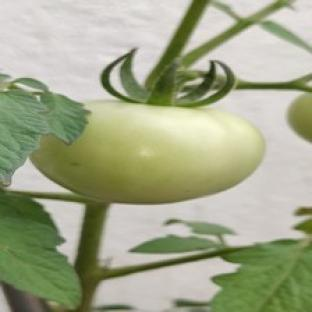Tomato: (31, 101, 264, 203), (289, 94, 311, 142)
